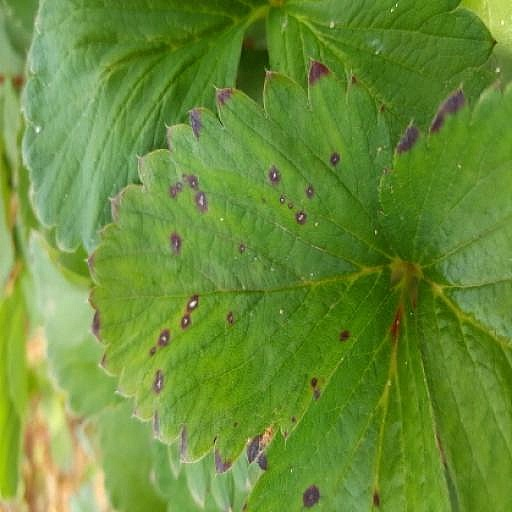Leaf Spot: (108, 37, 428, 455), (60, 0, 271, 233)
